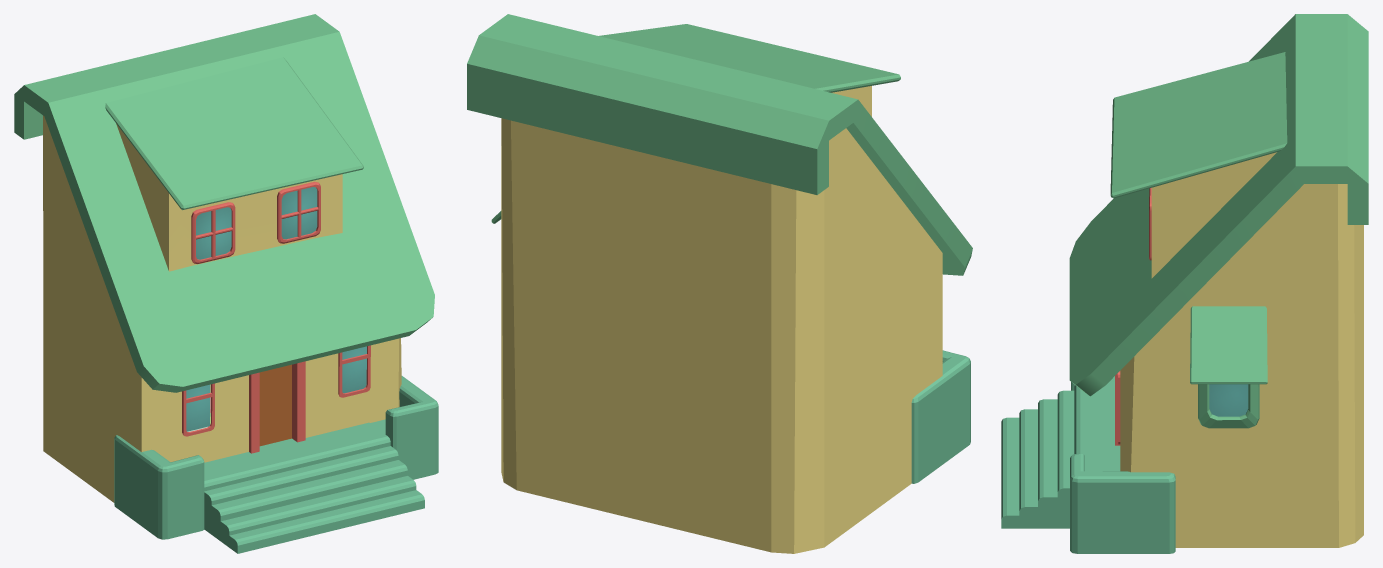
The model's file is SM_House_01.fbx.
3 renders of one model, left to right at view 1: azimuth 30°, elevation 25°; view 2: azimuth 150°, elevation 25°; view 3: azimuth 270°, elevation 25°, orthographic. The views are drawn at different scales.
Parts seen in each view (by area): view 1: SM_House_01; view 2: SM_House_01; view 3: SM_House_01.
Boxes of the visible parts, x1,y1,x2,y2 form: SM_House_01: (14,14,438,553); SM_House_01: (467,14,972,553); SM_House_01: (1001,14,1368,553).
Size of the model in its own units: 754 by 821 by 702.
